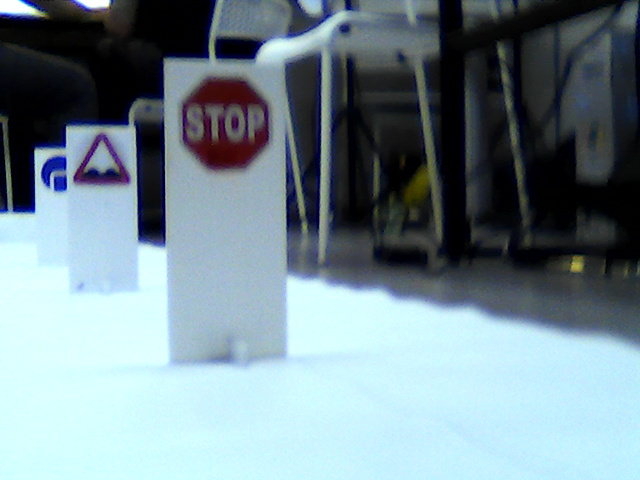Nerov: (75, 133, 132, 185)
Stop: (178, 74, 272, 173)
